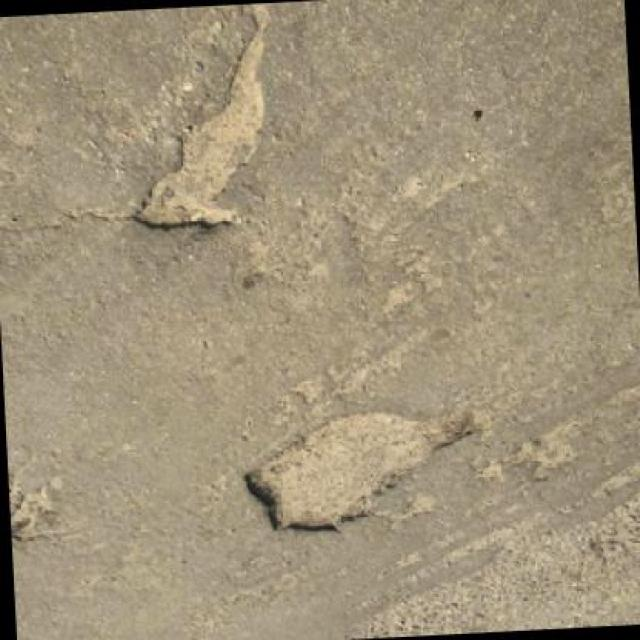pothole1: (121, 4, 287, 238), (232, 398, 494, 544), (8, 471, 63, 546)
